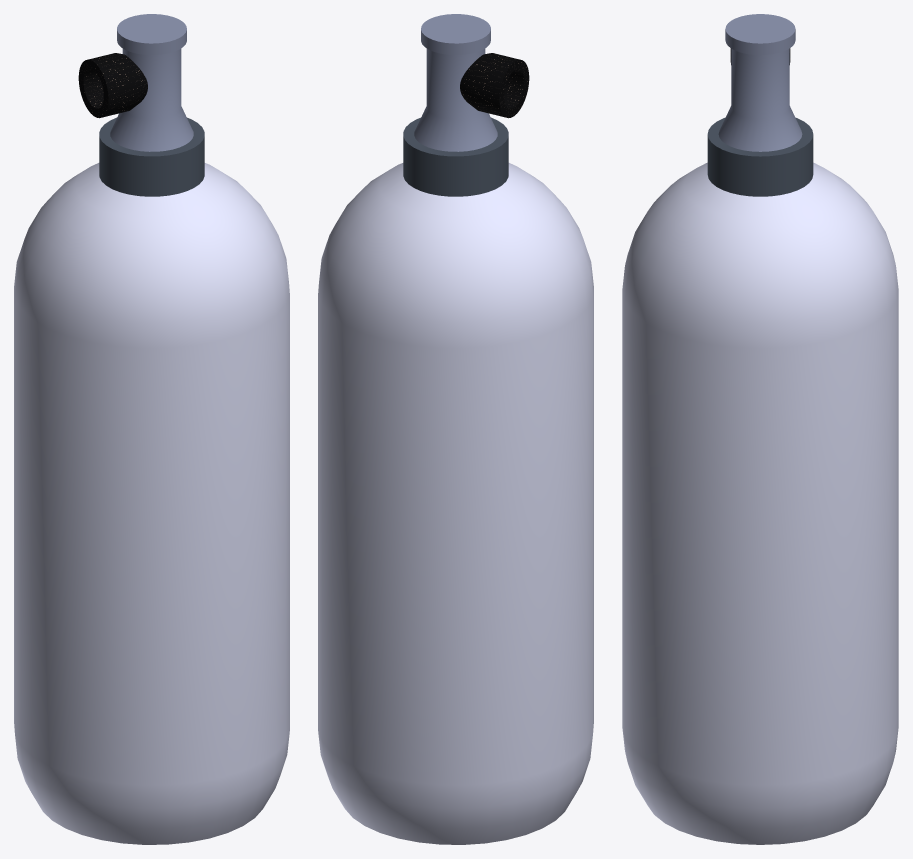
Rendered from MM_Oxygen_Tank.fbx.
3 renders of one model, left to right at view 1: azimuth 30°, elevation 25°; view 2: azimuth 150°, elevation 25°; view 3: azimuth 270°, elevation 25°, orthographic.
Parts seen in each view (by area): view 1: Oxygen_Tank; view 2: Oxygen_Tank; view 3: Oxygen_Tank.
Boxes of the visible parts, box(x1,y1,x2,y2) form: Oxygen_Tank: box(14, 14, 289, 844); Oxygen_Tank: box(318, 14, 593, 844); Oxygen_Tank: box(622, 14, 898, 844).
Bounding box in the file's own units: 11.77 × 36.07 × 11.77.
